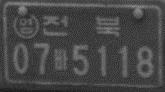0: (11, 41, 29, 75)
1: (115, 45, 133, 78), (94, 44, 111, 78)
5: (71, 44, 90, 77)
7: (32, 41, 50, 75)
8: (135, 46, 154, 78)
바: (52, 47, 68, 72)
영: (12, 12, 38, 39)
전북_D: (41, 14, 121, 38)
